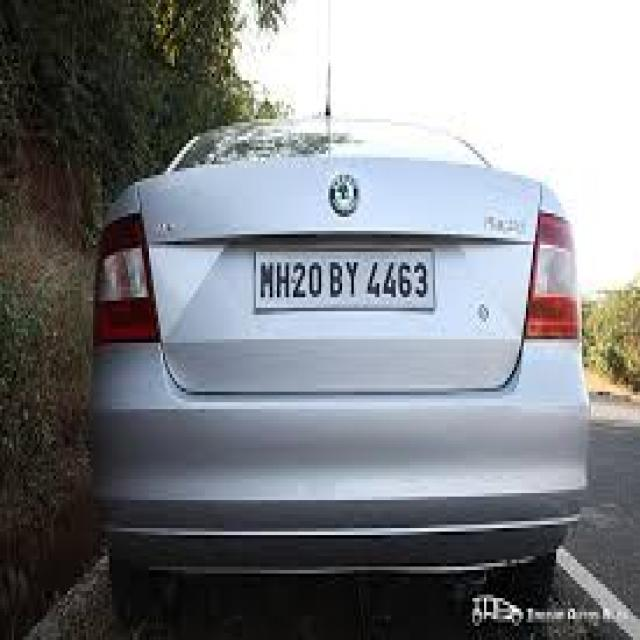Number-Plate: (255, 245, 434, 306)
